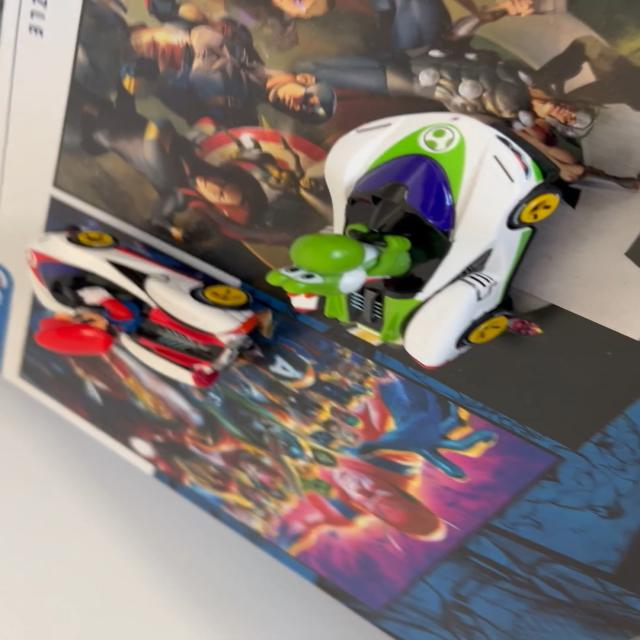mario: (8, 204, 276, 398)
yoshi: (248, 95, 590, 390)
